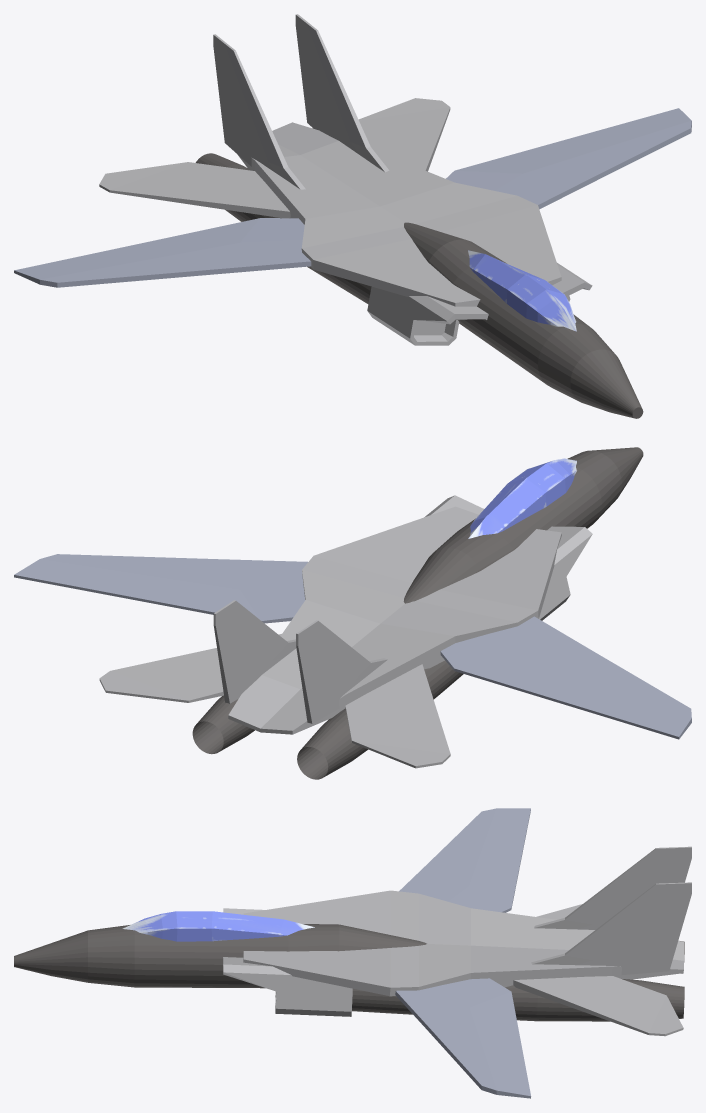
3 views of the same model, one above another, from view 1: azimuth 30°, elevation 25°; view 2: azimuth 150°, elevation 25°; view 3: azimuth 270°, elevation 25° (orthographic). The views are drawn at different scales.
Visible parts, largest first — view 1: mainframe, cylinders, rwing, lwing, visor; view 2: mainframe, cylinders, rwing, lwing, visor; view 3: mainframe, cylinders, lwing, rwing, visor.
Boxes of the visible parts, x1,y1,x2,y2 form: mainframe: (99, 14, 592, 345); cylinders: (195, 128, 643, 418); rwing: (14, 218, 311, 287); lwing: (446, 108, 691, 209); visor: (468, 250, 576, 331); mainframe: (99, 495, 592, 768); cylinders: (192, 447, 643, 779); rwing: (440, 616, 691, 739); lwing: (14, 554, 307, 623); visor: (468, 458, 576, 538); mainframe: (223, 846, 691, 1036); cylinders: (14, 924, 684, 1021); lwing: (395, 978, 531, 1098); rwing: (399, 808, 530, 912); visor: (122, 911, 314, 941).
Size of the model in its own units: 3.06 by 0.6562 by 3.05.
Materials: 7 (7 with a texture image).
